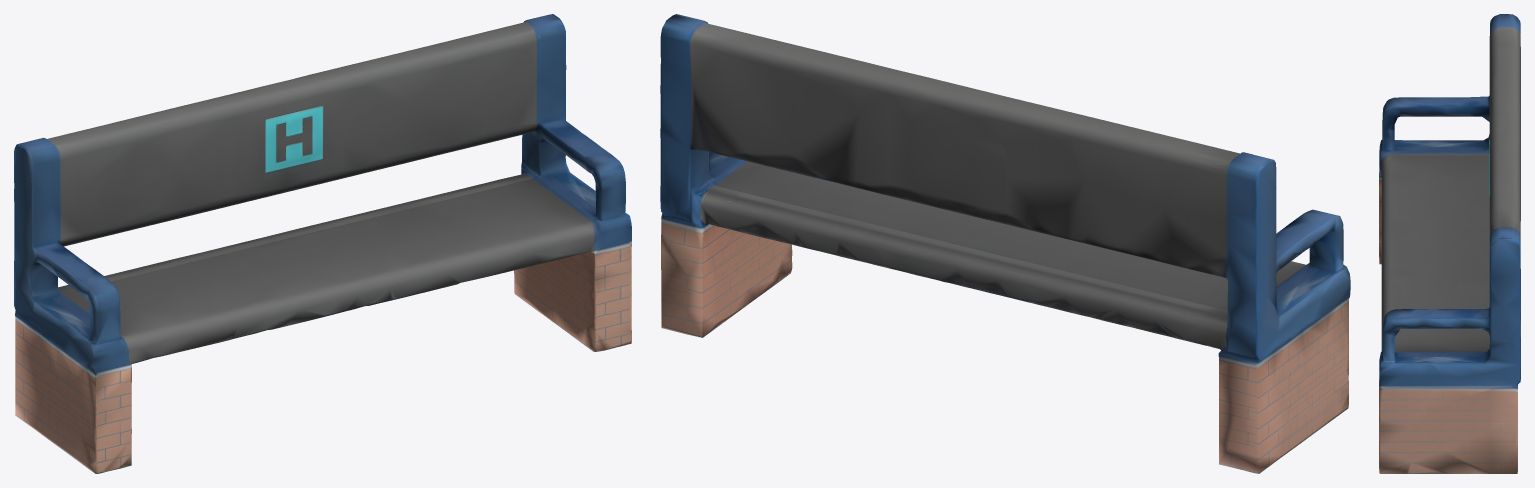
The model's file is Meshy_AI_Hospital_Bench_Design_0107222541_texture.fbx.
The picture shows the model from 3 angles, left to right: view 1: azimuth 30°, elevation 25°; view 2: azimuth 150°, elevation 25°; view 3: azimuth 270°, elevation 25°; orthographic projection. The views are drawn at different scales.
Visible parts, largest first — view 1: Mesh_0; view 2: Mesh_0; view 3: Mesh_0.
Part boxes in pixels (left/top/right/bottom): Mesh_0: left=14, top=14, right=631, bottom=473; Mesh_0: left=660, top=14, right=1350, bottom=473; Mesh_0: left=1379, top=14, right=1520, bottom=473.
Size of the model in its own units: 189 by 92.4 by 50.4.
1 material, 1 textured.
